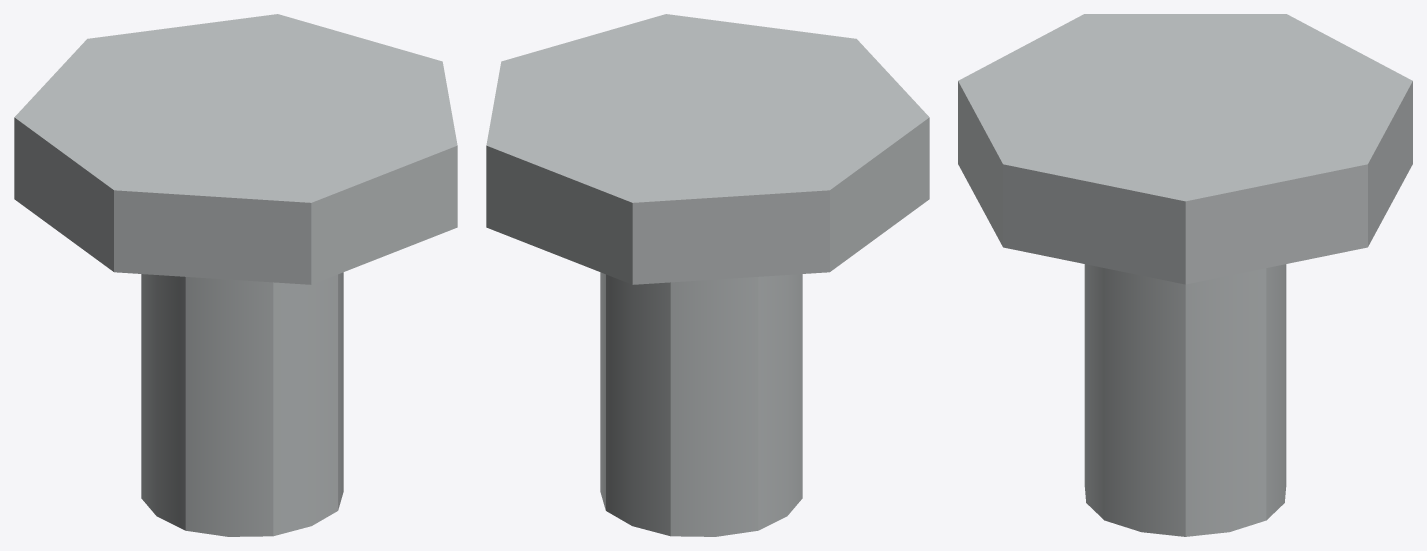
Rendered from Bolt.fbx.
3 views of the same model, side by side, from view 1: azimuth 30°, elevation 25°; view 2: azimuth 150°, elevation 25°; view 3: azimuth 270°, elevation 25° (orthographic).
Parts seen in each view (by area): view 1: Bolt; view 2: Bolt; view 3: Bolt.
Boxes of the visible parts, box(x1,y1,x2,y2) form: Bolt: box(14, 14, 457, 536); Bolt: box(486, 14, 929, 536); Bolt: box(958, 14, 1412, 536).
Size of the model in its own units: 0.5346 by 0.5195 by 0.5483.
Materials: 1 (1 with a texture image).
